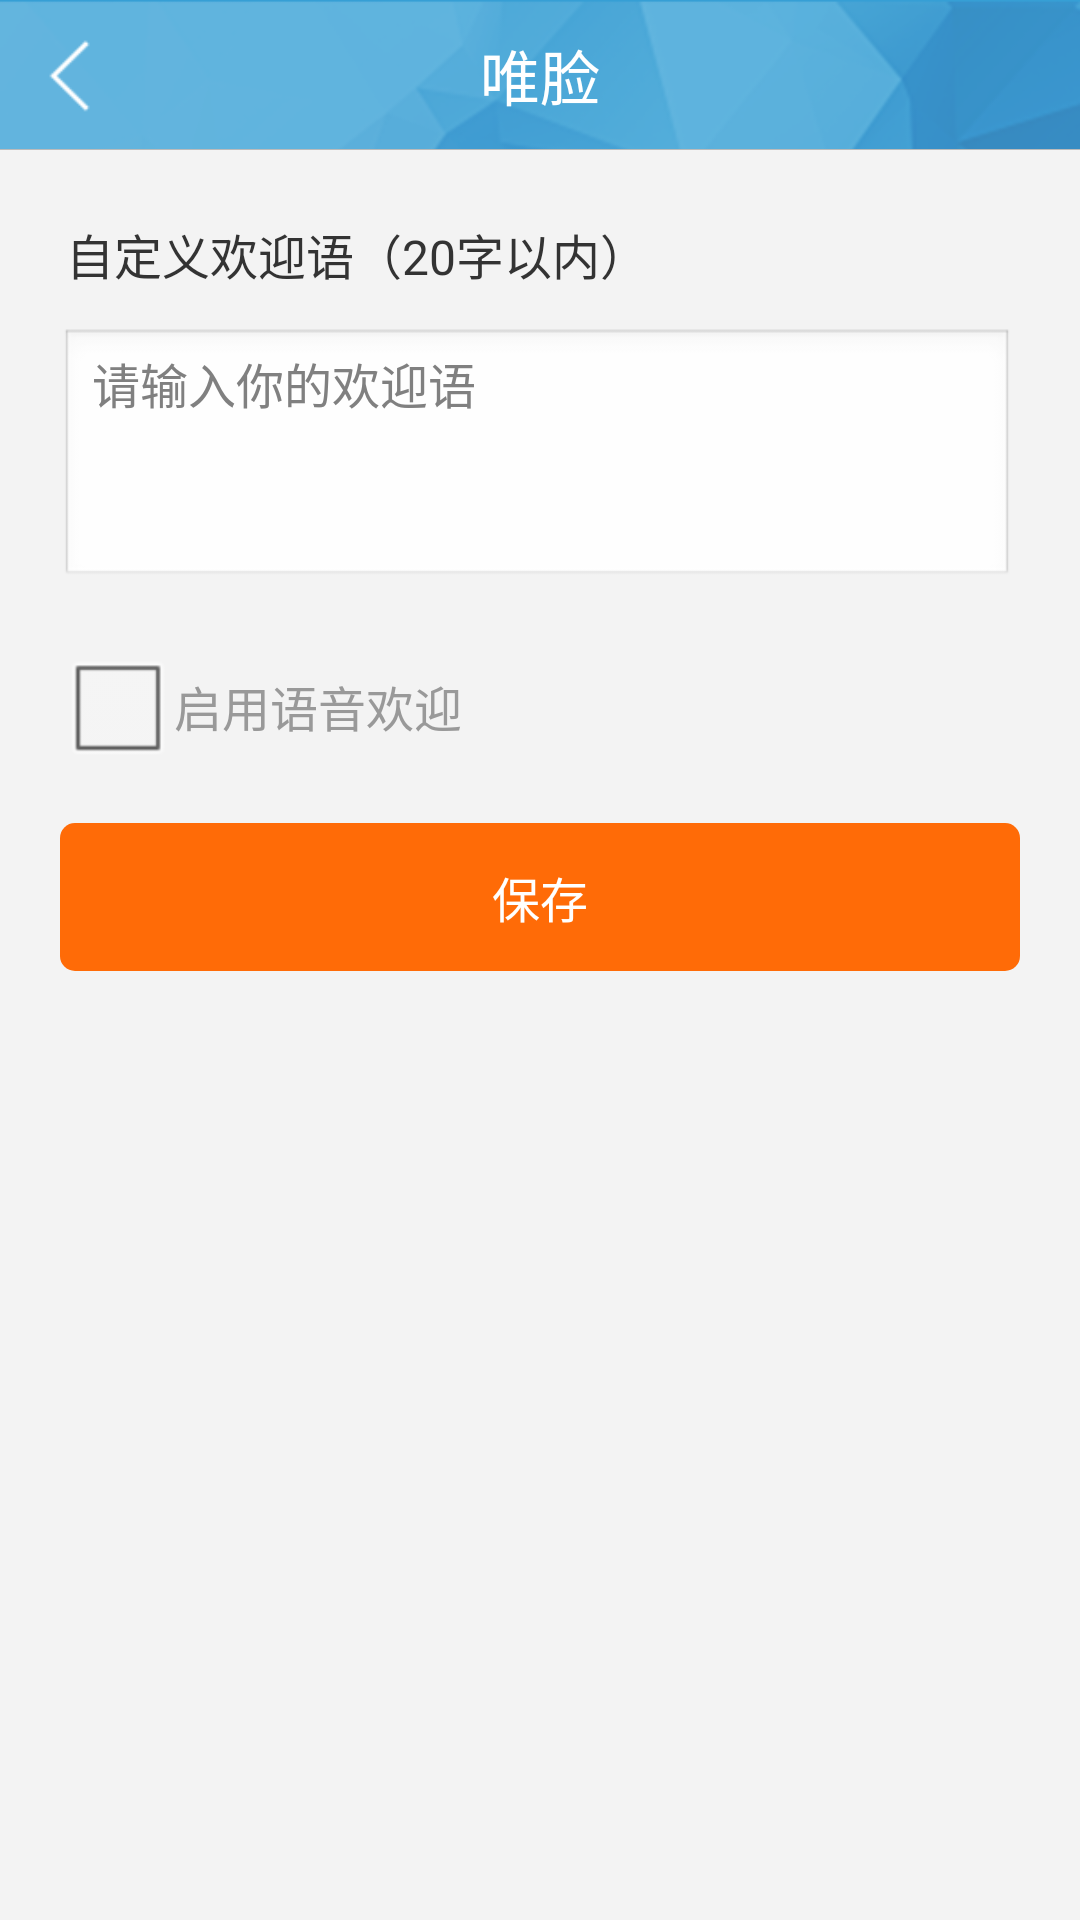

Icon click points for this 1080*1920 phone screenshot, format (x,y):
back: (69,76)
